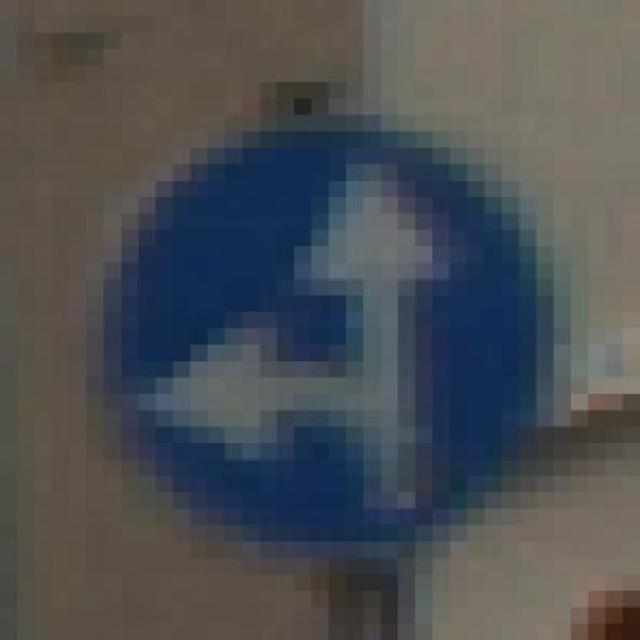Go straight or turn left: (86, 81, 588, 558)
